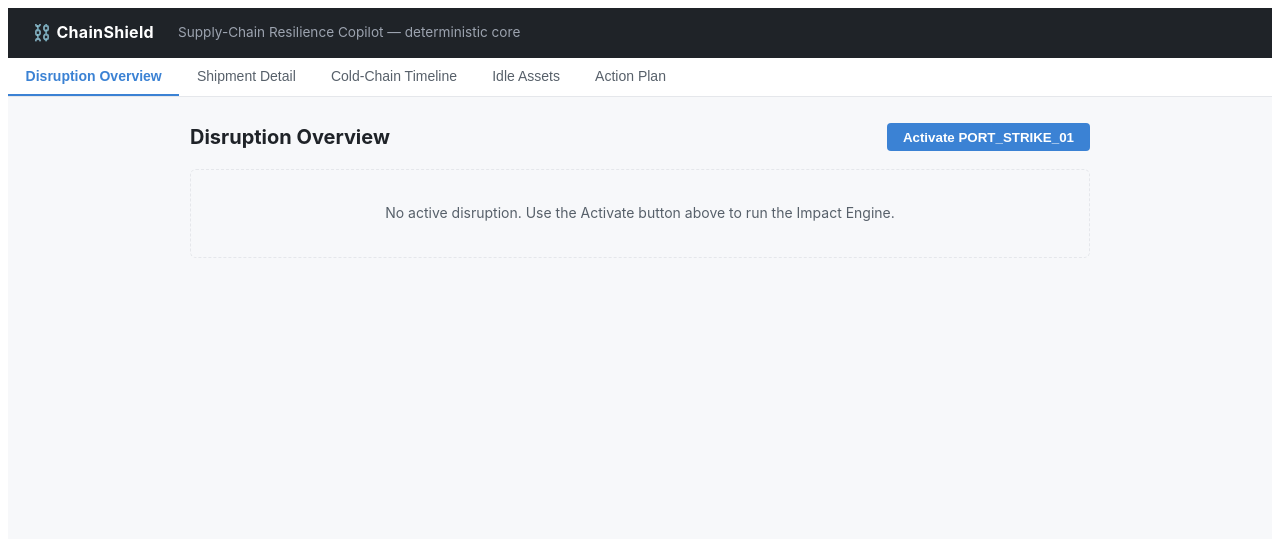
Test: Offline / Demo Mode Frontend Hardening › navigates across all 5 offline views without network errors
The width and height of the screenshot is (1280, 539).
Expected: the button "Activate PORT_STRIKE_01" is shown, 887,124 -> 1090,151
// Shipment Detail
Click the button "Shipment Detail" at coordinates (246, 77), box 179,58 -> 313,96
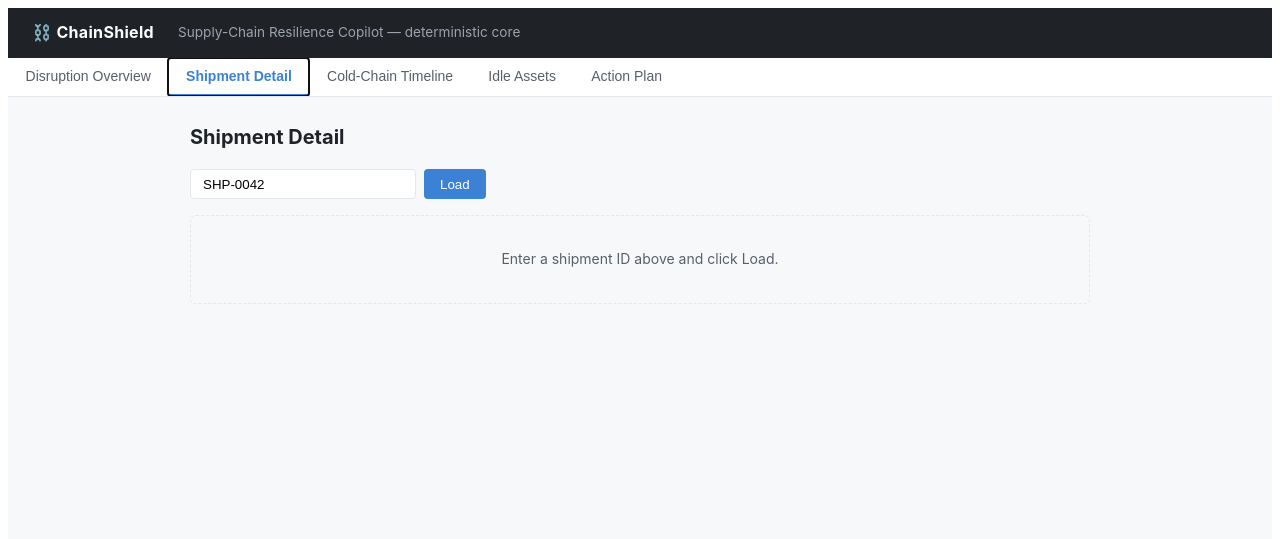
Now the field with placeholder "Shipment ID" is shown, box 190,169 -> 416,199
// Cold-Chain Timeline
Click the button "Cold-Chain Timeline" at coordinates (390, 77), box 309,58 -> 471,96
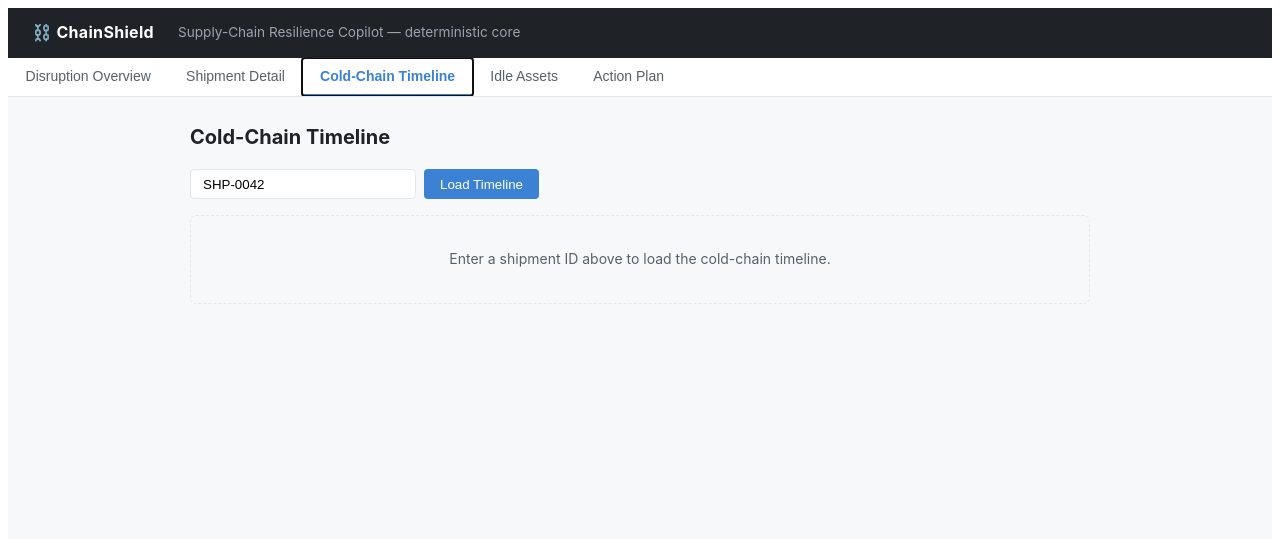
Now the button "Load Timeline" is shown, box 424,169 -> 539,199
// Idle Assets
Click the button "Idle Assets" at coordinates (524, 77), box 473,58 -> 576,96
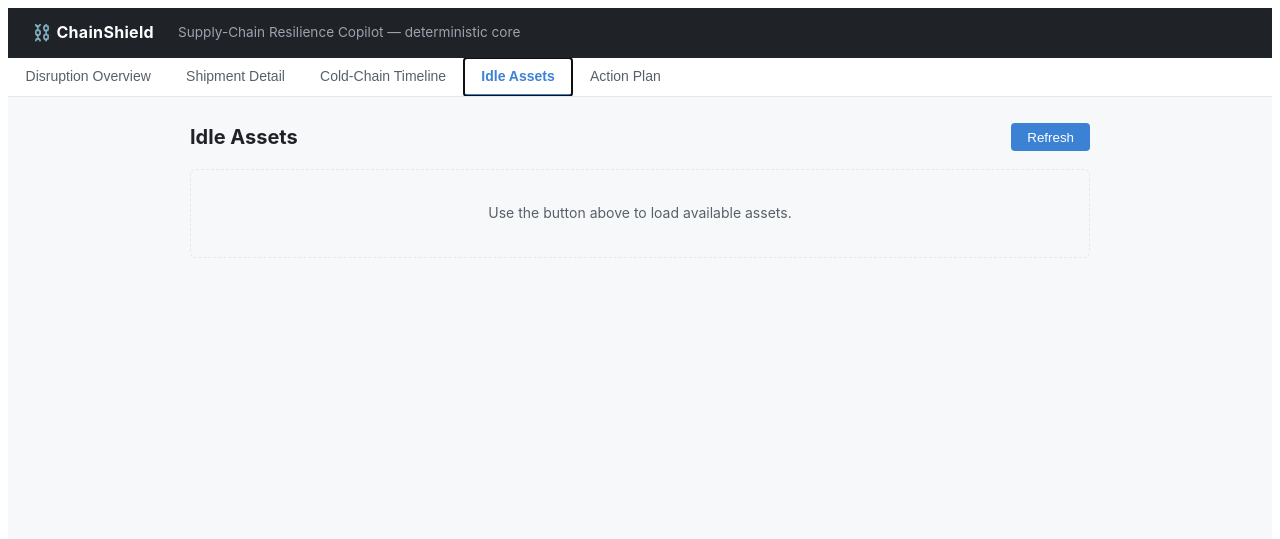
Click the button "Refresh" at coordinates (1051, 137), box 1011,124 -> 1090,151
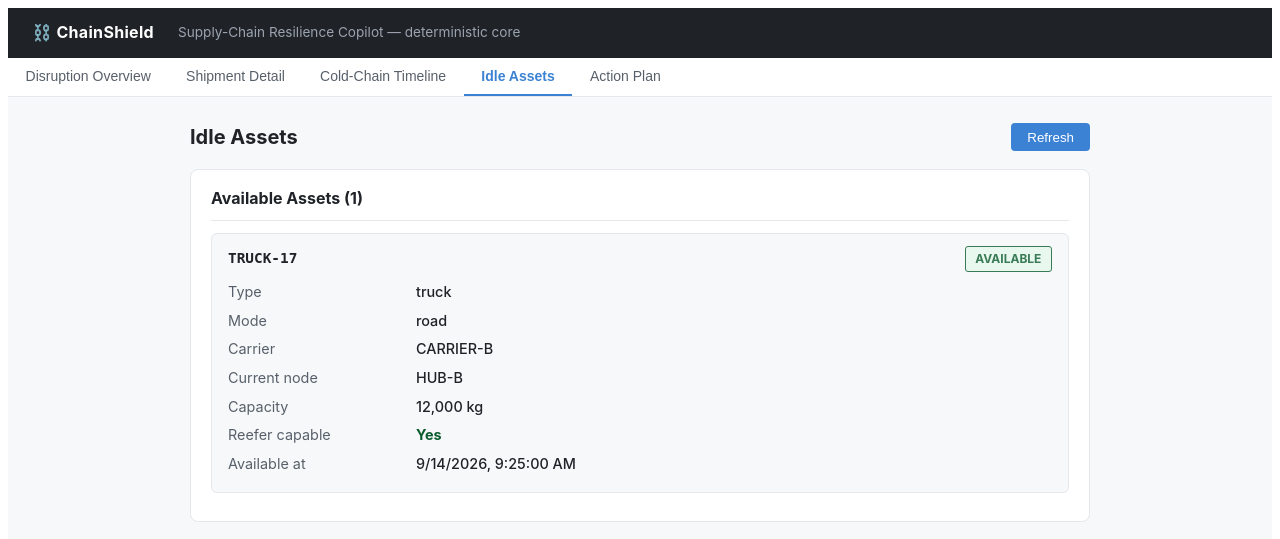
Now the text "TRUCK-17" is shown, box 228,247 -> 297,270
// Action Plan
Click the button "Action Plan" at coordinates (625, 77), box 572,58 -> 678,96
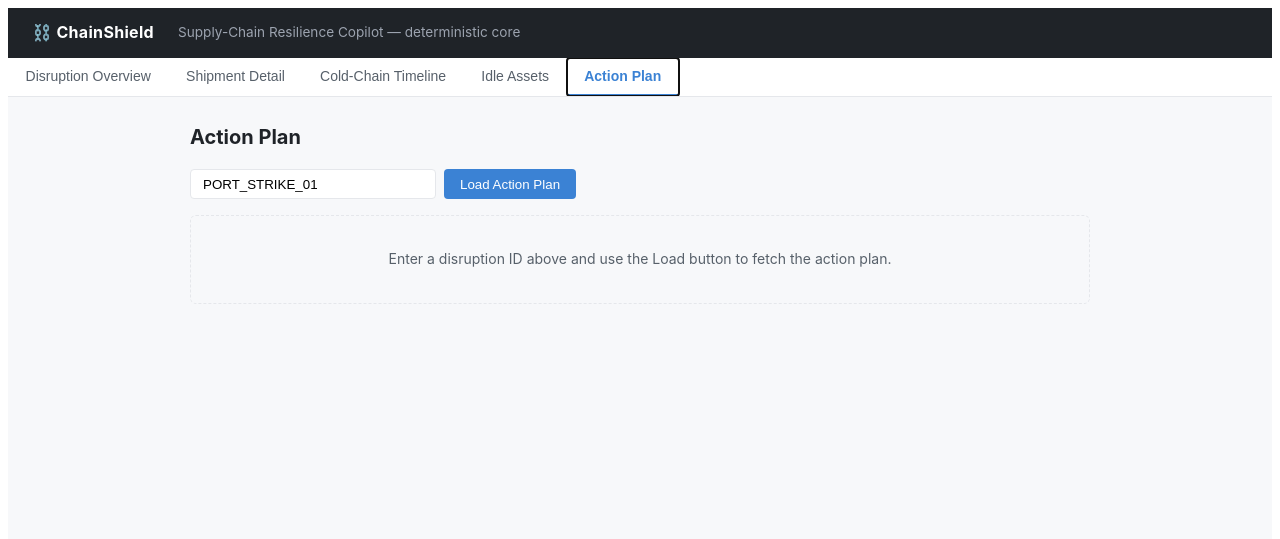
Now the button "Load Action Plan" is shown, box 444,169 -> 576,199
